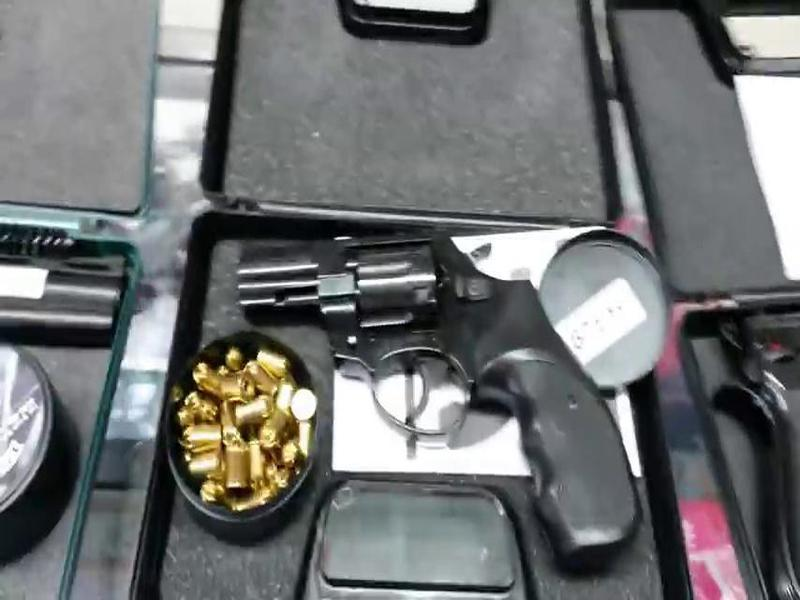Revolver: (209, 188, 687, 561)
